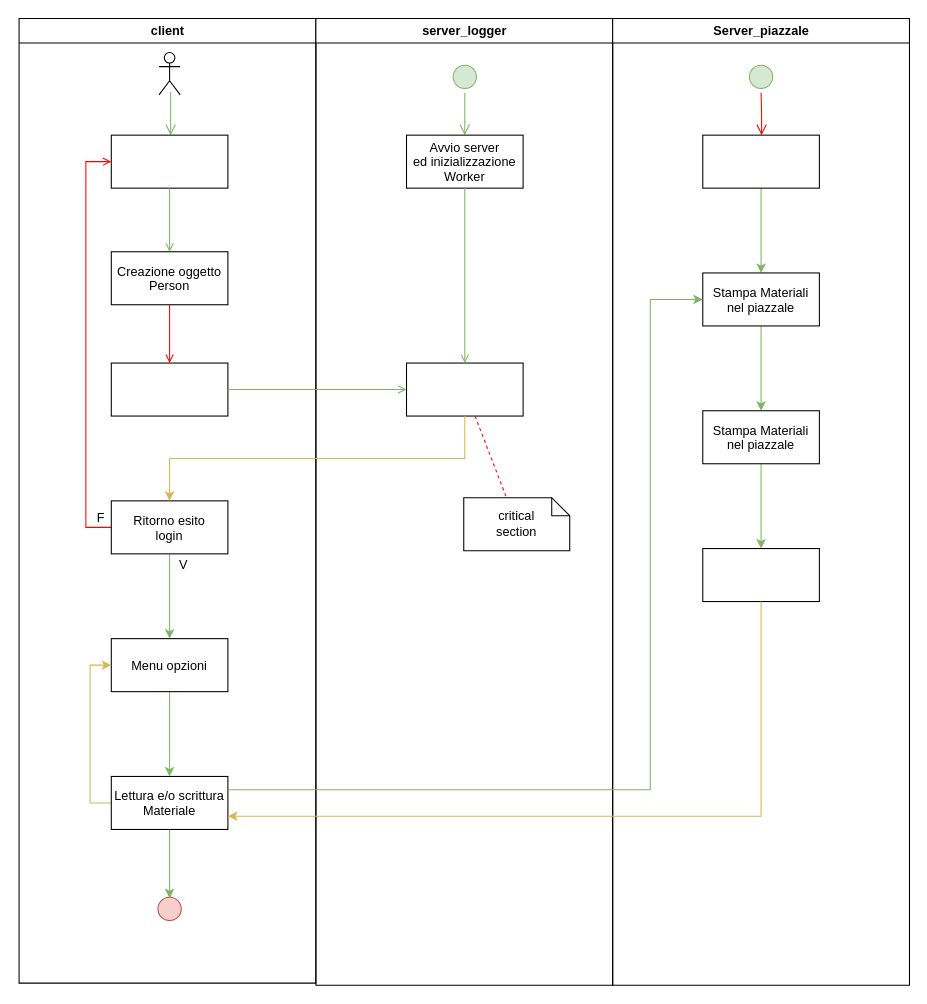
Image size: 927x1004. Some labels were removed from this diagram. Each missing label, with the box of its shape:
- Memorizzazione - Rimozione - Lettura dati: (702, 547, 819, 602)
Avvio server ed inizializzazione Materiale: (702, 134, 819, 188)
Inserimento credenziali: (110, 134, 228, 188)
Invio dati inseriti server_logger: (110, 362, 228, 416)
Ricezione dati e controllo con login_function: (405, 362, 523, 416)
Worker: (158, 51, 180, 95)
